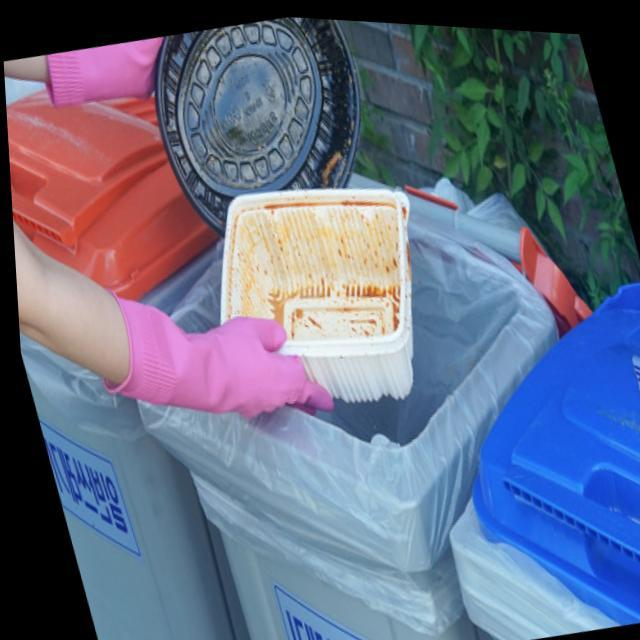bottle: (186, 158, 436, 414)
